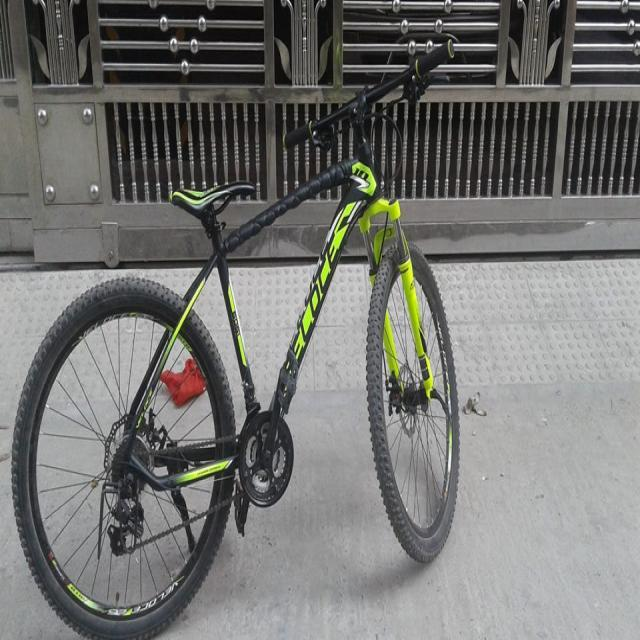Bicycle: (6, 37, 555, 640)
